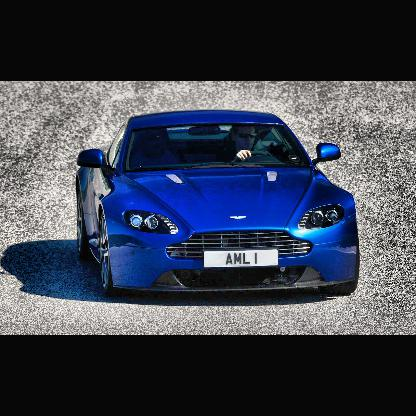Aston Martin V8 Vantage Coupe 2012: (74, 110, 363, 304)
